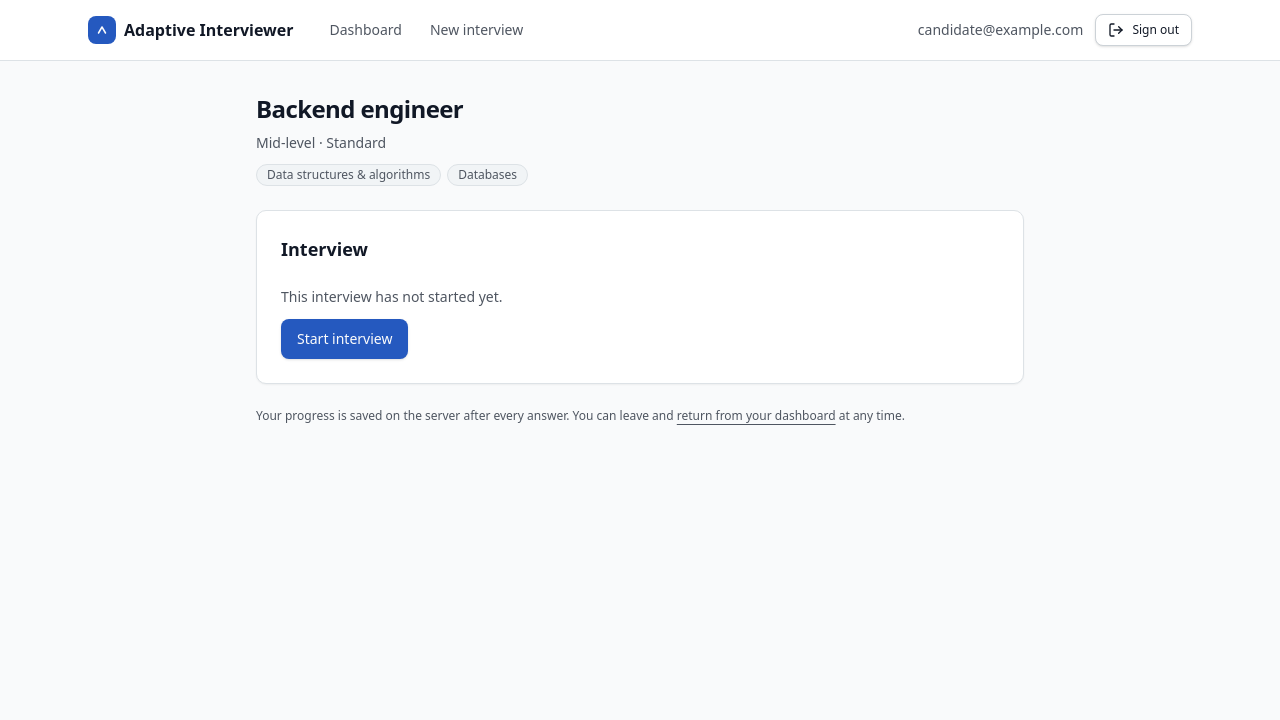
it: interview screen: loading › a session that has not started can be started (idempotently)
Click the button "Start interview": (345, 339) top-left (281, 319), bottom-right (408, 359)
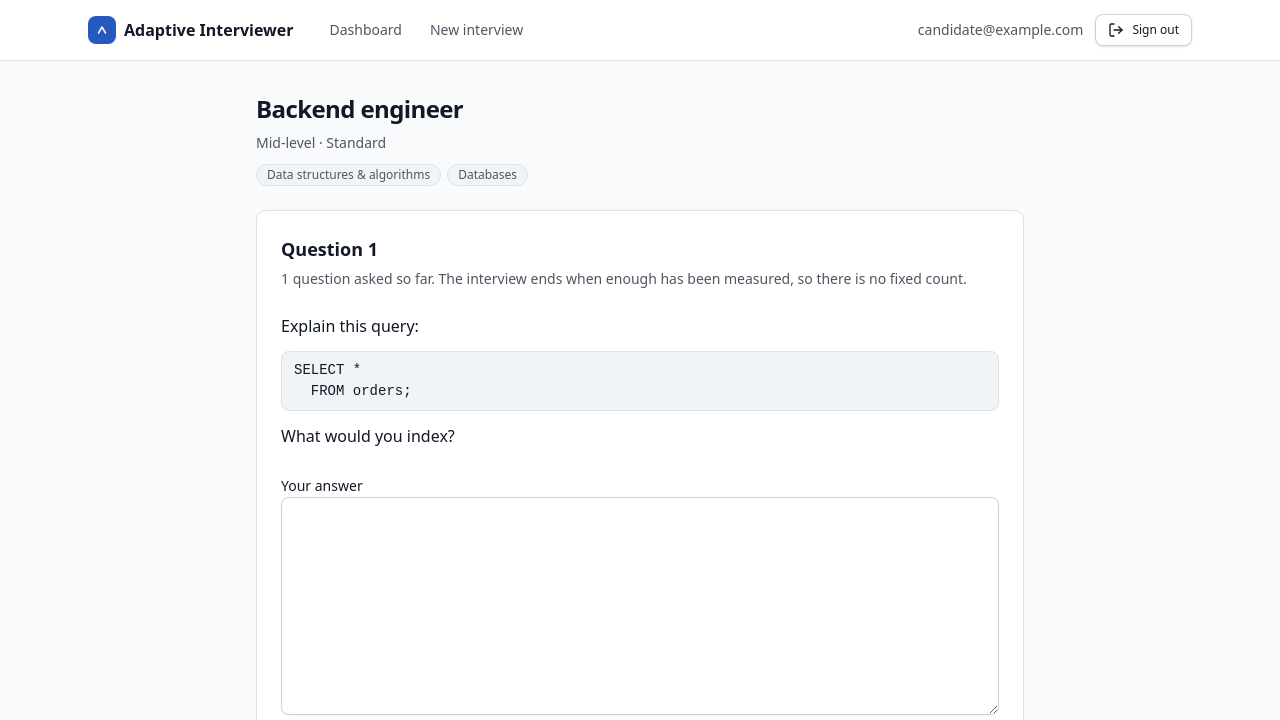
Expected: the heading "Question 1" is shown, top-left (281, 237), bottom-right (378, 261)
